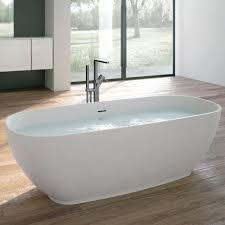bathub: (2, 90, 225, 206)
